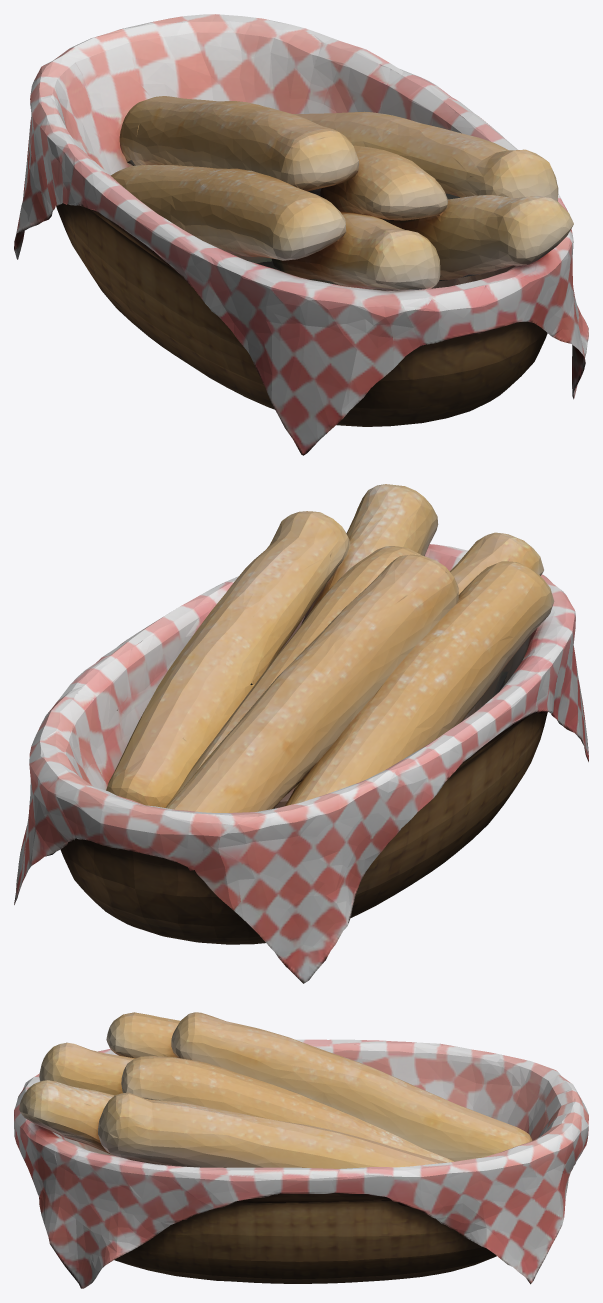
File: PartObjaverseTiny_One.glb
The picture shows the model from 3 angles, top to bottom: view 1: azimuth 30°, elevation 25°; view 2: azimuth 150°, elevation 25°; view 3: azimuth 270°, elevation 25°; orthographic projection. The views are drawn at different scales.
Visible parts, largest first — view 1: world; view 2: world; view 3: world.
Part boxes in pixels (x1,y1,x2,y2): world: (14,14,588,455); world: (14,484,588,983); world: (14,1012,588,1288).
Size of the model in its own units: 0.5719 by 0.4013 by 0.9933.
1 material, 1 textured.
